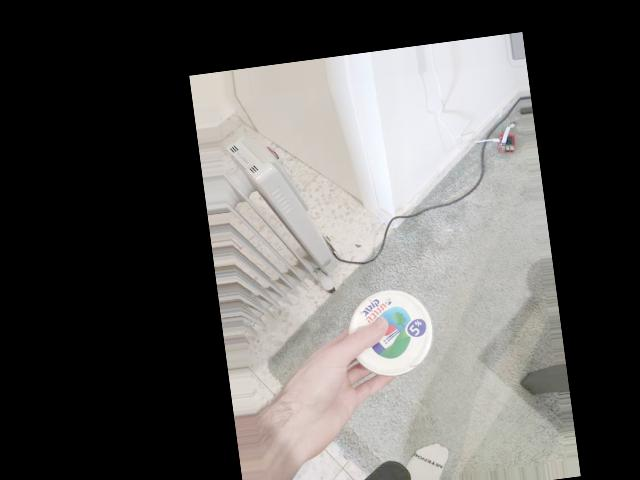cotage: (344, 289, 433, 378)
